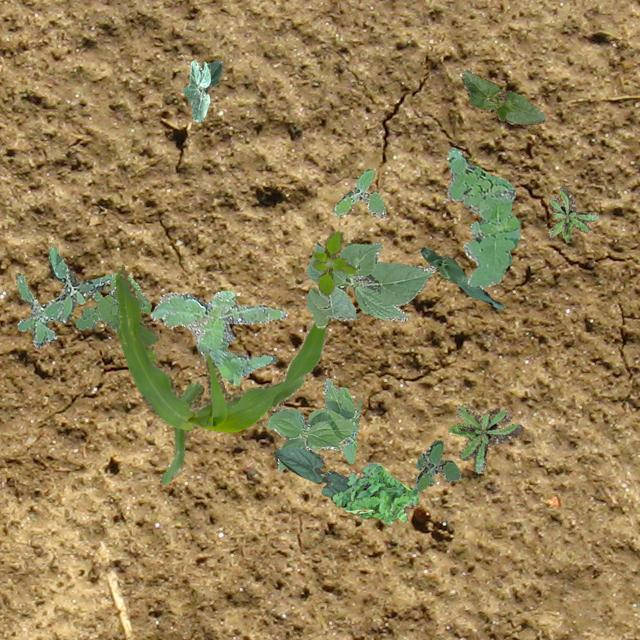crop: (114, 264, 324, 483), (304, 242, 434, 328), (266, 376, 360, 471), (420, 245, 502, 308), (460, 70, 546, 124), (272, 446, 348, 496), (180, 60, 222, 122)
weed: (150, 290, 286, 384), (446, 147, 518, 286), (15, 246, 106, 346), (329, 462, 416, 522), (448, 403, 522, 472), (74, 272, 150, 332), (548, 184, 598, 242), (312, 230, 354, 294), (332, 168, 384, 216), (414, 439, 459, 492)
